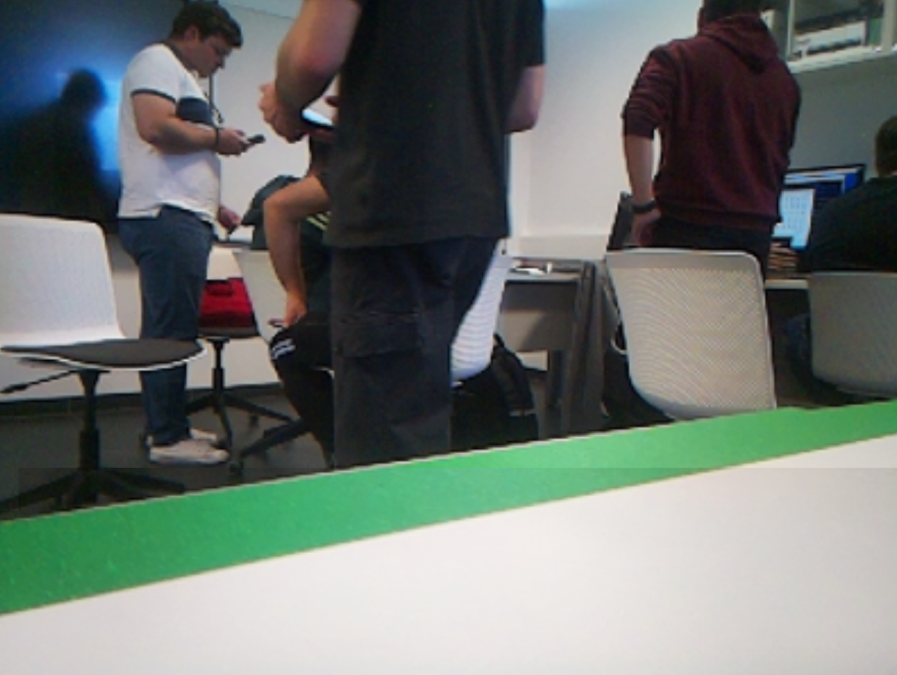linea_cerca: (0, 396, 897, 616)
